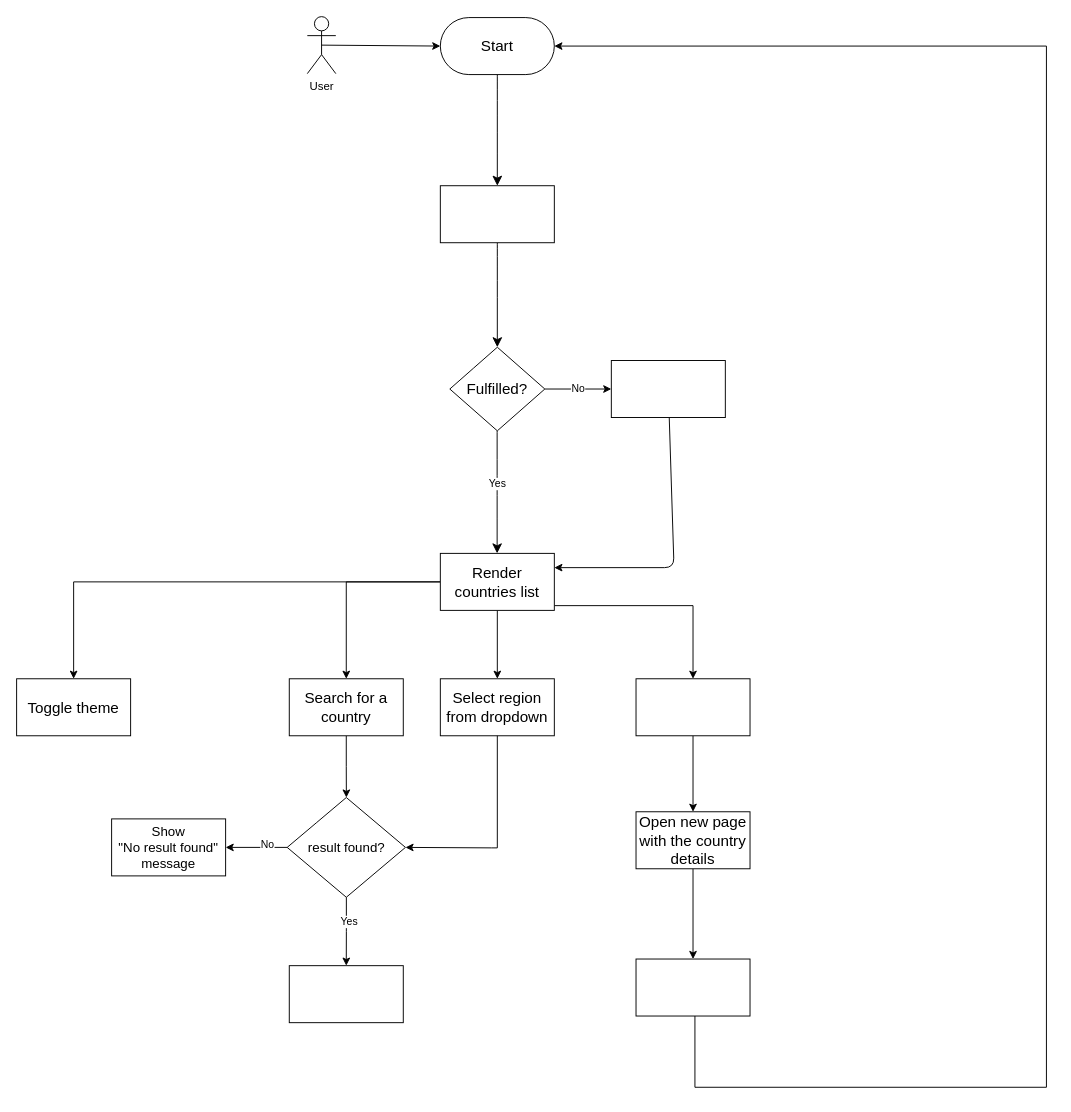
Image size: 1071x1112. Some labels were removed from this diagram. Here are the shapes that lost their labels. From the top down, the centre of each, then its label:
(496,214): Fetch data from localstorage
(667,389): Fetch data from API and save it to localstorage
(692,707): Choose a country from the list
(345,994): Render results list
(692,987): Click "Back" button
